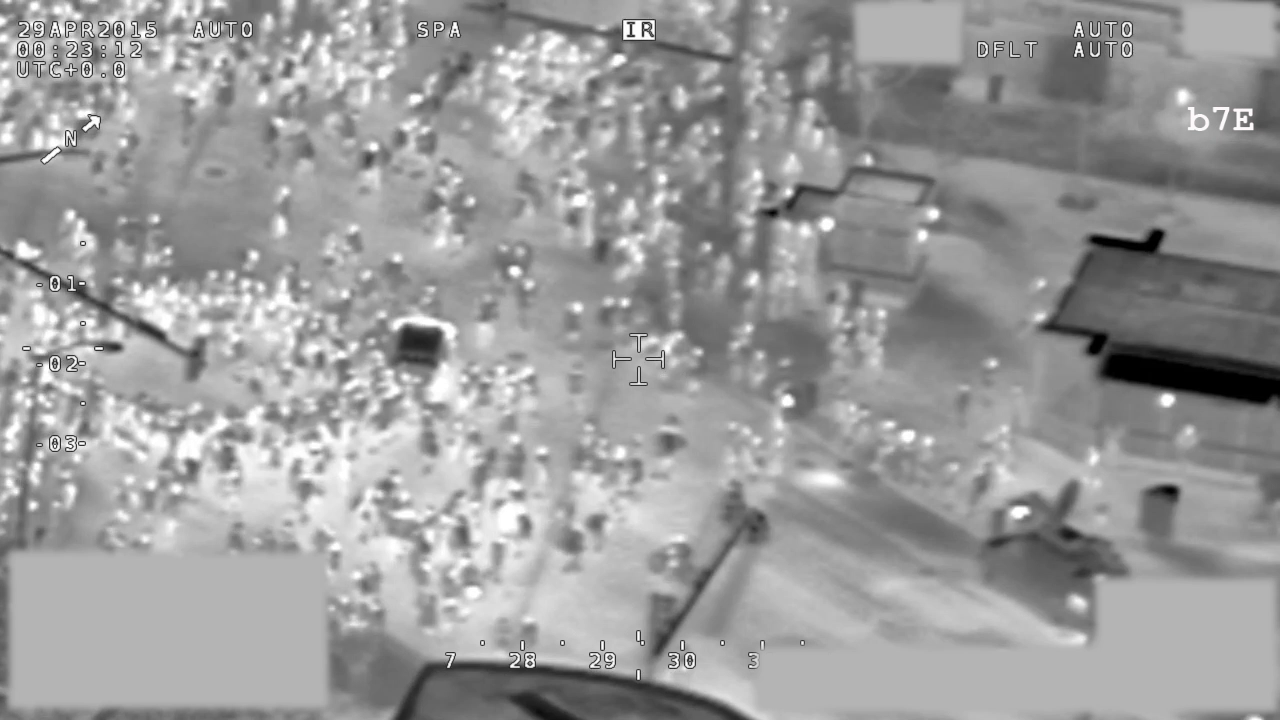vehicle: (977, 475, 1131, 634), (385, 311, 459, 399)
